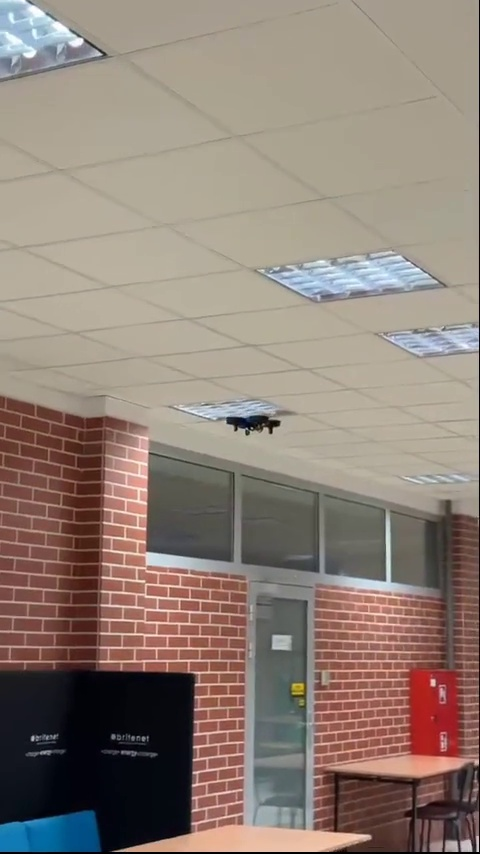drone: (226, 413, 282, 434)
